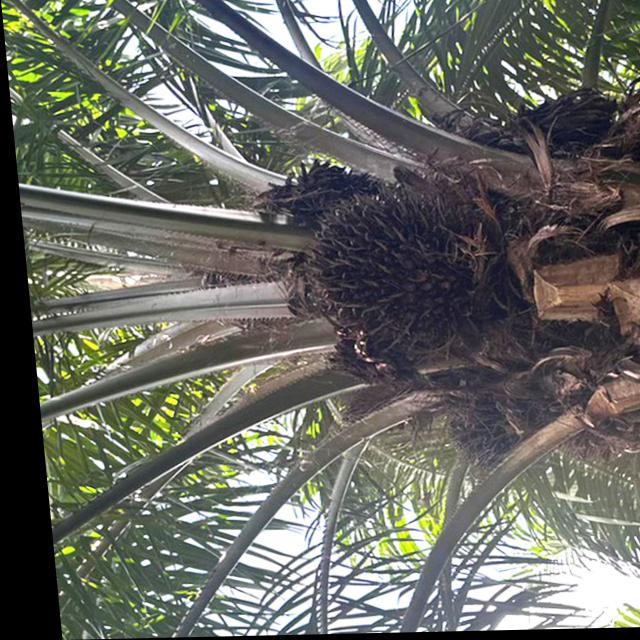ripe: (272, 176, 497, 367)
